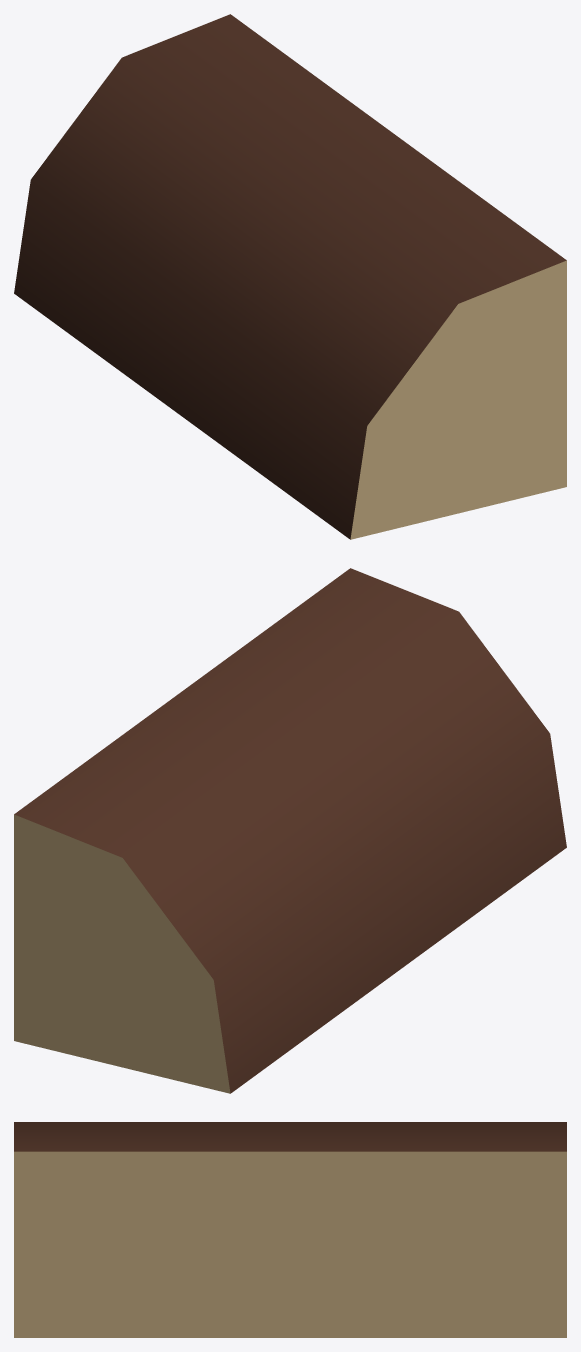
Rendered from Furniture_FirewoodLog.fbx.
The picture shows the model from 3 angles, top to bottom: view 1: azimuth 30°, elevation 25°; view 2: azimuth 150°, elevation 25°; view 3: azimuth 270°, elevation 25°; orthographic projection. The views are drawn at different scales.
Parts seen in each view (by area): view 1: Firewood Log; view 2: Firewood Log; view 3: Firewood Log.
Boxes of the visible parts, box(x1,y1,x2,y2) form: Firewood Log: box(14, 14, 566, 539); Firewood Log: box(14, 568, 566, 1093); Firewood Log: box(14, 1122, 566, 1337).
Bounding box in the file's own units: 47.42 × 47.42 × 128.
